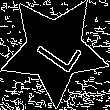L_NW: (26, 23, 82, 77)
